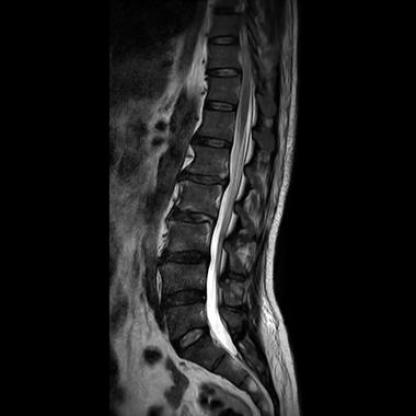Annular Tearrotation: (163, 287, 206, 311)
Disc Bulgerotation: (170, 205, 220, 231), (158, 246, 211, 270), (163, 287, 206, 311)
Disc Protrusionrotation: (182, 170, 232, 188)
